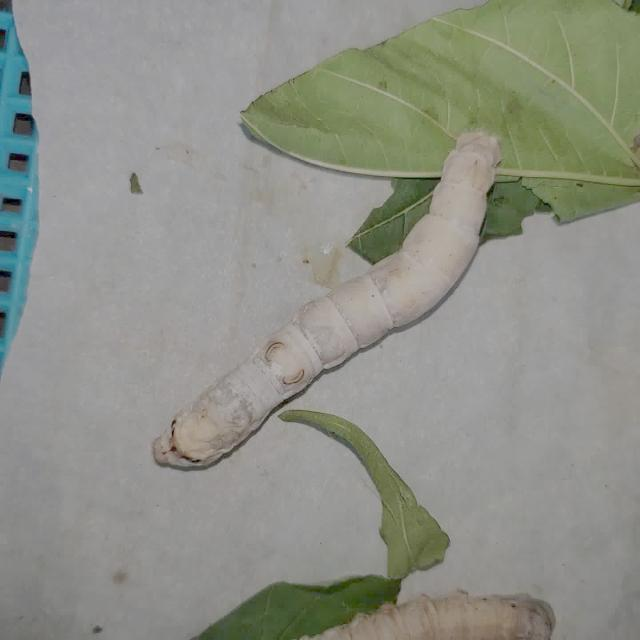Grasserie: (139, 102, 521, 476)
